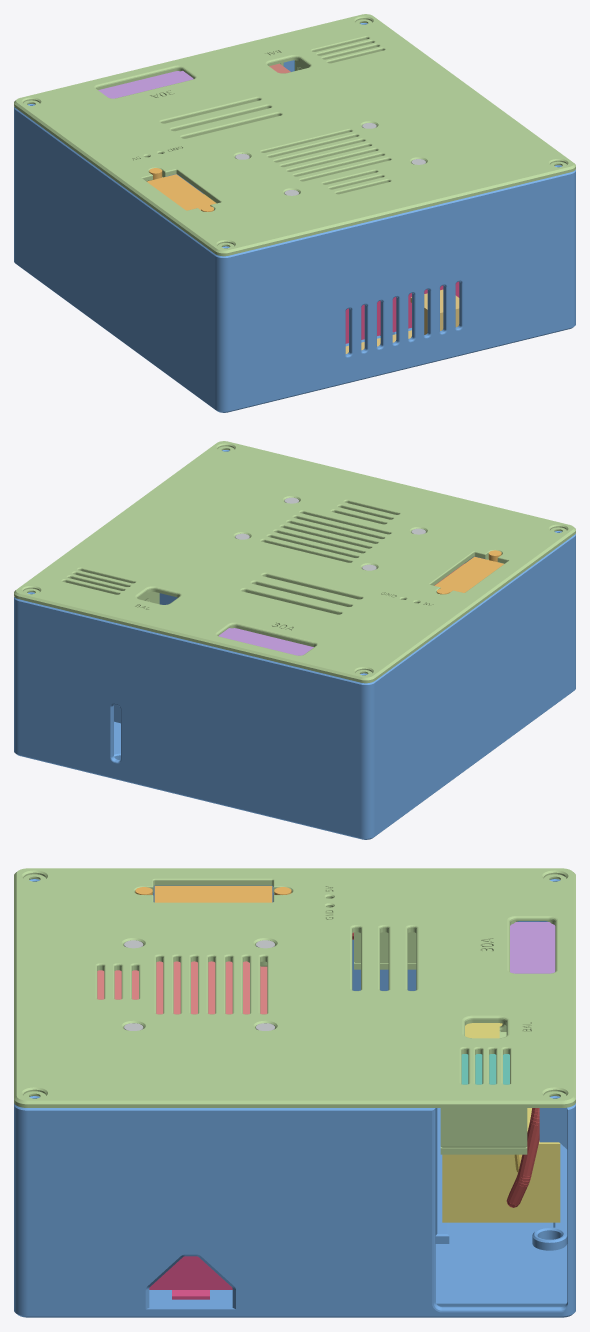
File: backpack_v3.glb
3 renders of one model, top to bottom at view 1: azimuth 30°, elevation 25°; view 2: azimuth 150°, elevation 25°; view 3: azimuth 270°, elevation 25°, orthographic. The views are drawn at different scales.
Visible parts, largest first — view 1: bp3_base, bp3_lid, bp3_c_switch, bp3_c_fuse_holder, bp3_c_pi, bp3_c_cam_ribbon; view 2: bp3_base, bp3_lid, bp3_c_switch, bp3_c_fuse_holder; view 3: bp3_lid, bp3_base, bp3_c_lipo, bp3_c_cutoff, bp3_c_fuse_holder, bp3_c_switch, bp3_c_pi, bp3_w_lipo_xt60_lead, bp3_c_warner.
Part boxes in pixels (x1,y1,x2,y2): bp3_base: [14, 23, 575, 412]; bp3_lid: [14, 14, 575, 256]; bp3_c_switch: [147, 174, 215, 210]; bp3_c_fuse_holder: [98, 71, 193, 98]; bp3_c_pi: [345, 281, 459, 343]; bp3_c_cam_ribbon: [345, 289, 459, 353]; bp3_base: [14, 450, 575, 839]; bp3_lid: [14, 441, 575, 683]; bp3_c_switch: [435, 556, 503, 592]; bp3_c_fuse_holder: [218, 628, 313, 655]; bp3_lid: [14, 868, 575, 1154]; bp3_base: [14, 879, 575, 1317]; bp3_c_lipo: [442, 1023, 560, 1222]; bp3_c_cutoff: [97, 961, 267, 1014]; bp3_c_fuse_holder: [510, 922, 555, 973]; bp3_c_switch: [154, 886, 272, 902]; bp3_c_pi: [149, 1256, 232, 1289]; bp3_w_lipo_xt60_lead: [506, 1108, 539, 1207]; bp3_c_warner: [461, 1054, 509, 1084].
Bounding box in the file's own units: 0.16 × 0.0726 × 0.162.
